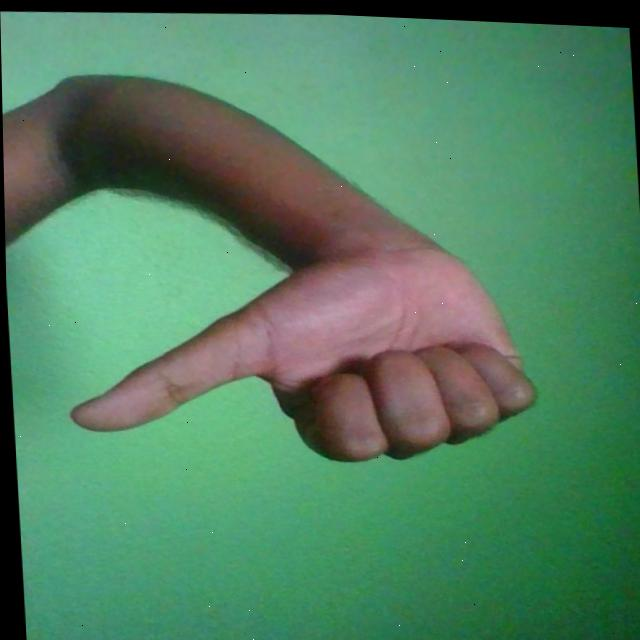Dislike: (59, 228, 540, 474)
